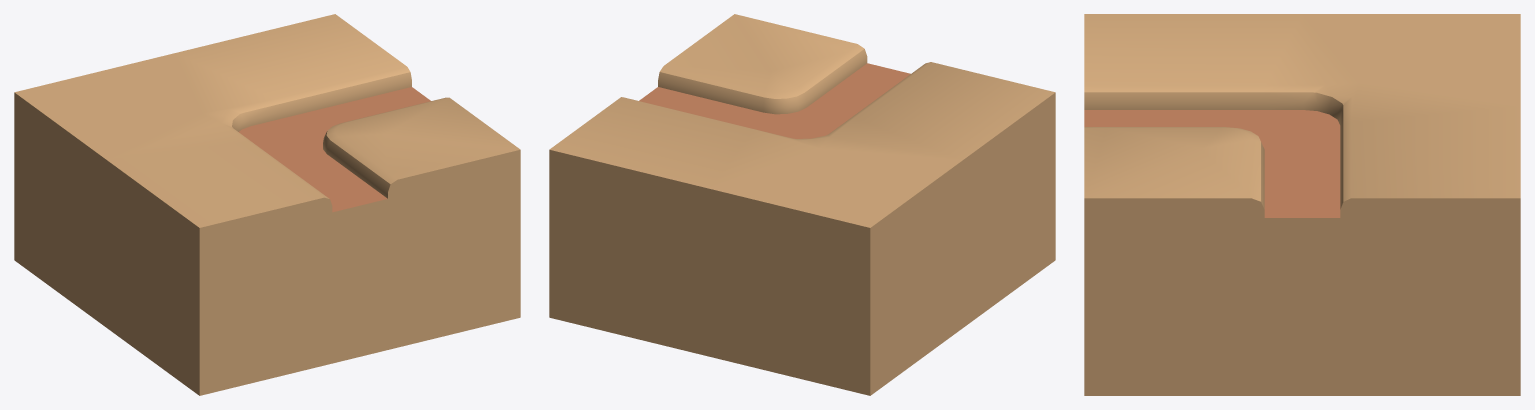
The model's file is square_sand_roadC.glb.
3 views of the same model, side by side, from view 1: azimuth 30°, elevation 25°; view 2: azimuth 150°, elevation 25°; view 3: azimuth 270°, elevation 25° (orthographic). The views are drawn at different scales.
Visible parts, largest first — view 1: square_sand_roadC; view 2: square_sand_roadC; view 3: square_sand_roadC.
Boxes of the visible parts, left/top/right/bottom form: square_sand_roadC: left=14, top=14, right=520, bottom=395; square_sand_roadC: left=549, top=14, right=1055, bottom=395; square_sand_roadC: left=1084, top=14, right=1520, bottom=395.
Size of the model in its own units: 2 by 1 by 2.
